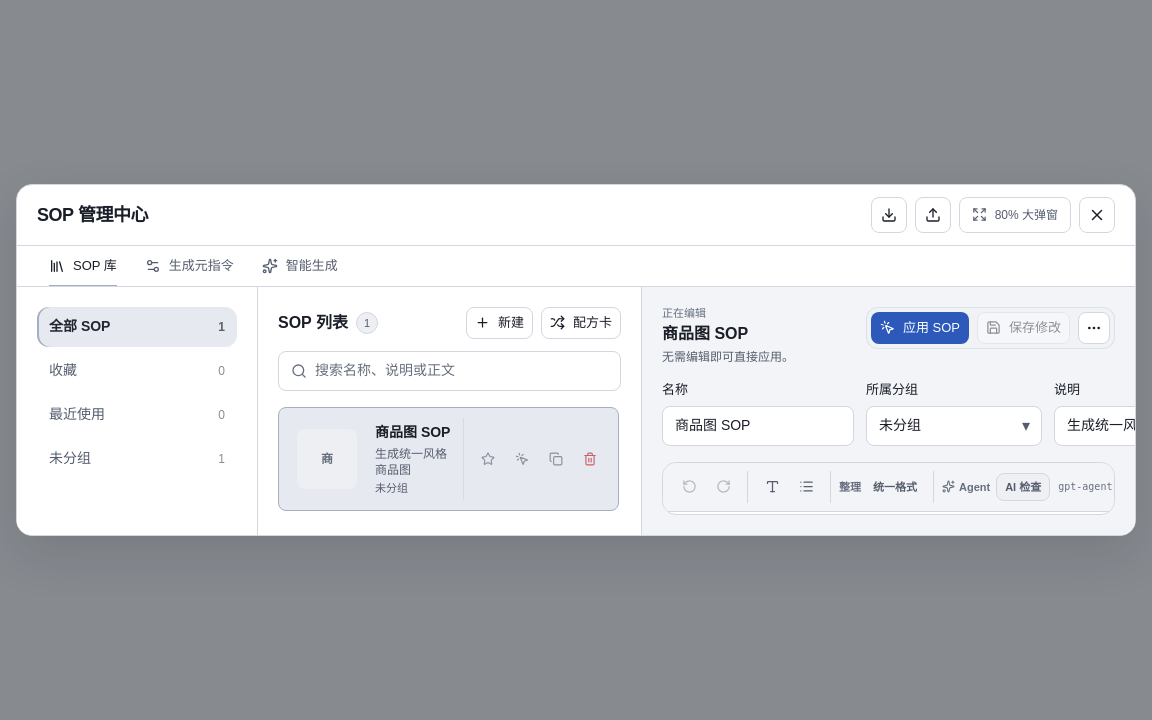
Test: SopManagementCenter apply and save actions › adds clipboard images pasted into the smart generation reference grid
(page scrolled)
What coordinates should you click on to do the following:
click the tab "智能生成"
I would click on:
 (300, 266)
Its box is [250,246,350,286].
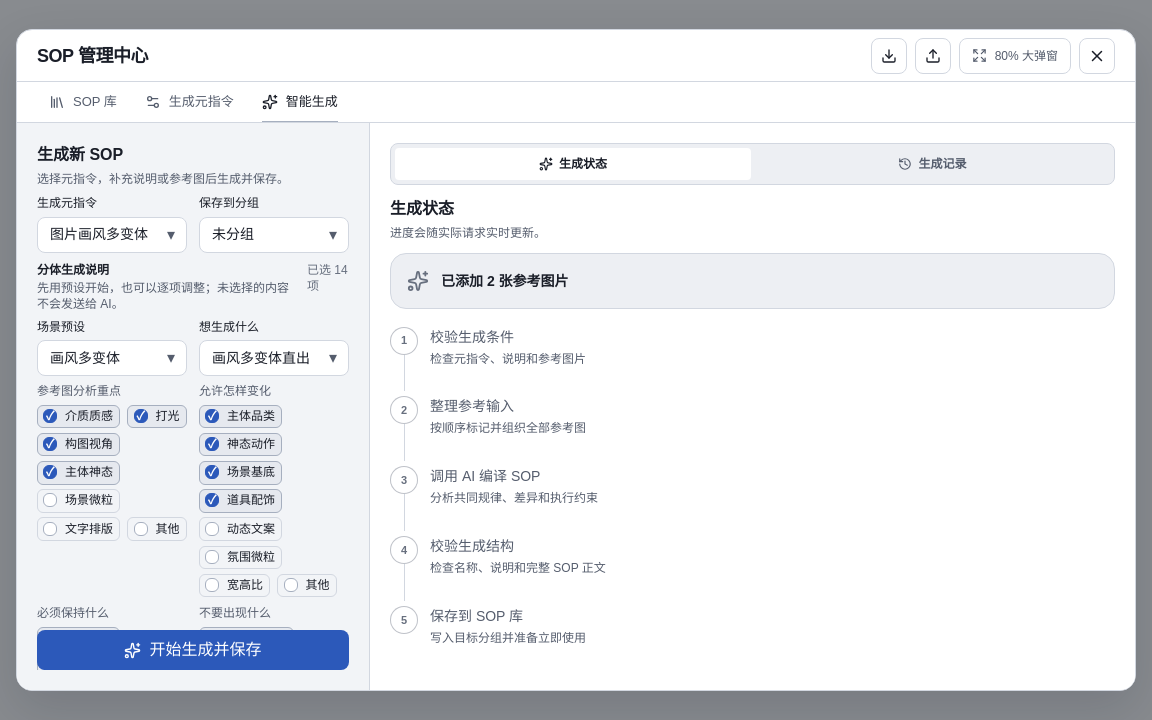
Check: the text "已添加 2 张参考图片" is shown, box [441,271,569,291]
